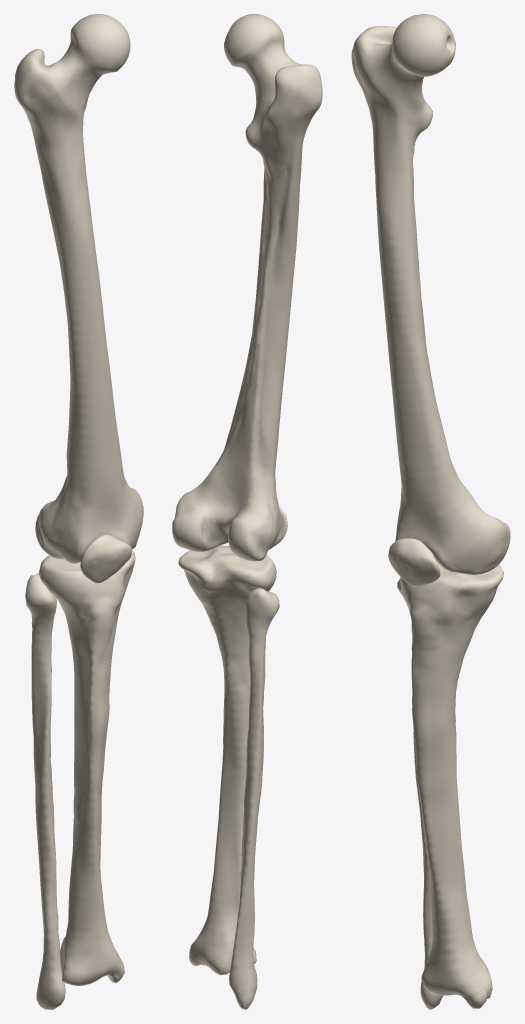
File: knee-bones.glb
The picture shows the model from 3 angles, left to right: view 1: azimuth 30°, elevation 25°; view 2: azimuth 150°, elevation 25°; view 3: azimuth 330°, elevation 25°; orthographic projection. The views are drawn at different scales.
Parts seen in each view (by area): view 1: Femur.r, Tibia.r, Fibula.r, Patella.r; view 2: Femur.r, Tibia.r, Fibula.r; view 3: Femur.r, Tibia.r, Patella.r, Fibula.r.
Part boxes in pixels (x1,y1,x2,y2): Femur.r: (14,14,143,563); Tibia.r: (38,550,135,985); Fibula.r: (25,573,65,1009); Patella.r: (80,534,131,583); Femur.r: (172,14,322,561); Tibia.r: (178,545,276,975); Fibula.r: (229,587,279,1009); Femur.r: (351,14,510,574); Tibia.r: (400,562,503,1008); Patella.r: (388,538,440,586); Fibula.r: (397,579,443,1009).
Bounding box in the file's own units: 0.1159 × 0.8269 × 0.0788.
